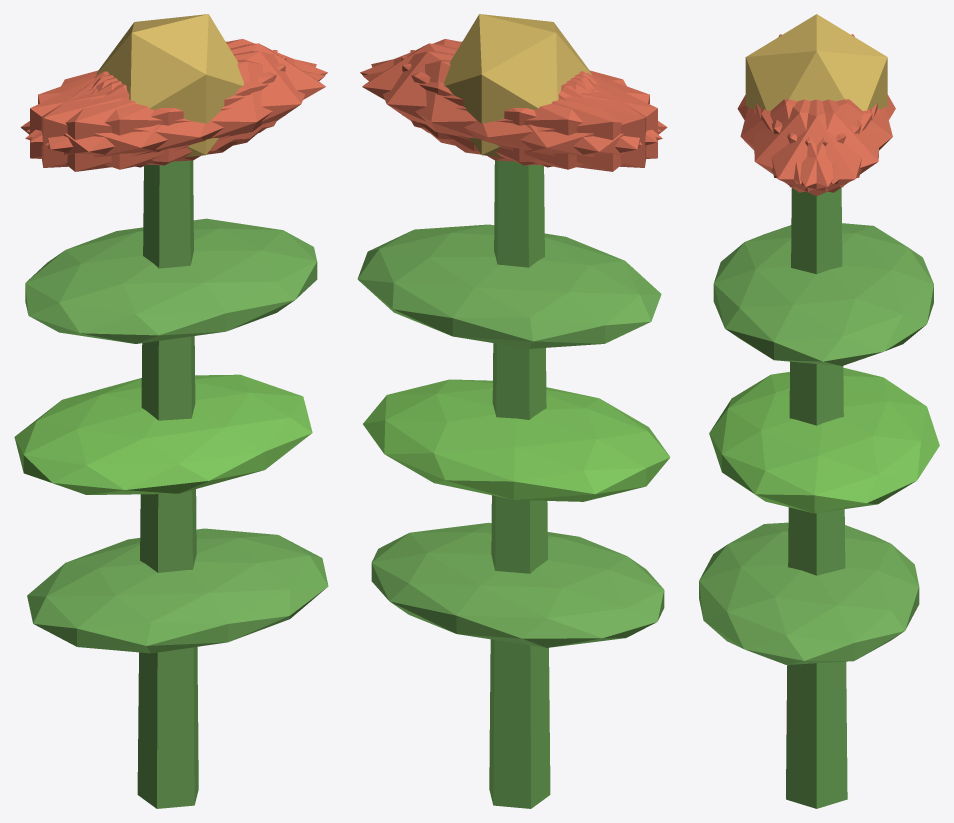
The model's file is tabernaemontana-macrocarpa.glb.
3 views of the same model, side by side, from view 1: azimuth 30°, elevation 25°; view 2: azimuth 150°, elevation 25°; view 3: azimuth 270°, elevation 25° (orthographic).
Visible parts, largest first — view 1: leaf0, leaf2, leaf1, stem, center, petal1, petal6, petal2, petal5, petal7, petal0, petal4 (+2 smaller); view 2: leaf2, leaf1, leaf0, stem, center, petal8, petal3, petal7, petal4, petal2, petal0, petal5 (+2 smaller); view 3: leaf2, leaf1, leaf0, stem, center, petal0, petal5, petal4, petal1, petal8.
Boxes of the visible parts, x1,y1,x2,y2 form: leaf0: (27, 528, 328, 653); leaf2: (25, 218, 317, 343); leaf1: (14, 374, 312, 494); stem: (137, 160, 198, 808); center: (96, 14, 243, 157); petal1: (25, 59, 324, 169); petal6: (20, 73, 237, 171); petal2: (41, 50, 277, 167); petal5: (45, 51, 316, 162); petal7: (30, 56, 286, 165); petal0: (96, 43, 325, 151); petal4: (26, 39, 327, 142); leaf2: (357, 224, 661, 348); leaf1: (363, 379, 670, 501); leaf0: (371, 522, 664, 647); stem: (489, 160, 550, 808); center: (444, 14, 591, 157); petal8: (363, 59, 662, 169); petal3: (450, 73, 667, 171); petal7: (410, 50, 646, 167); petal4: (371, 51, 642, 162); petal2: (401, 56, 657, 165); petal0: (362, 43, 591, 151); petal5: (360, 39, 661, 142); leaf2: (713, 223, 933, 365); leaf1: (709, 367, 939, 513); leaf0: (699, 522, 919, 664); stem: (786, 187, 847, 808); center: (745, 14, 887, 110); petal0: (756, 99, 877, 196); petal5: (754, 99, 872, 192); petal4: (761, 99, 879, 192); petal1: (740, 99, 861, 184); petal8: (772, 99, 892, 184).
Bounding box in the file's own units: 0.1452 × 0.3632 × 0.1039.
